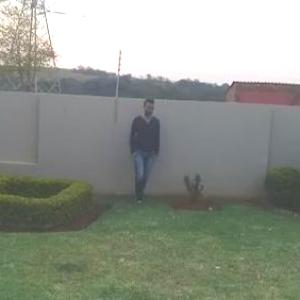follow: (126, 95, 160, 205)
